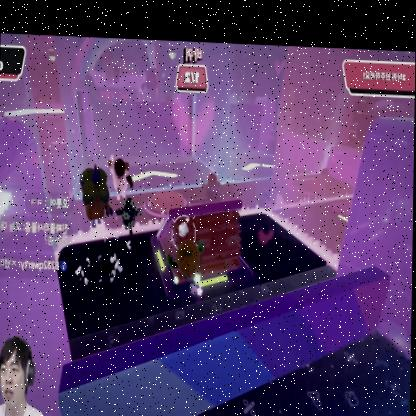streamer: (0, 332, 54, 416)
